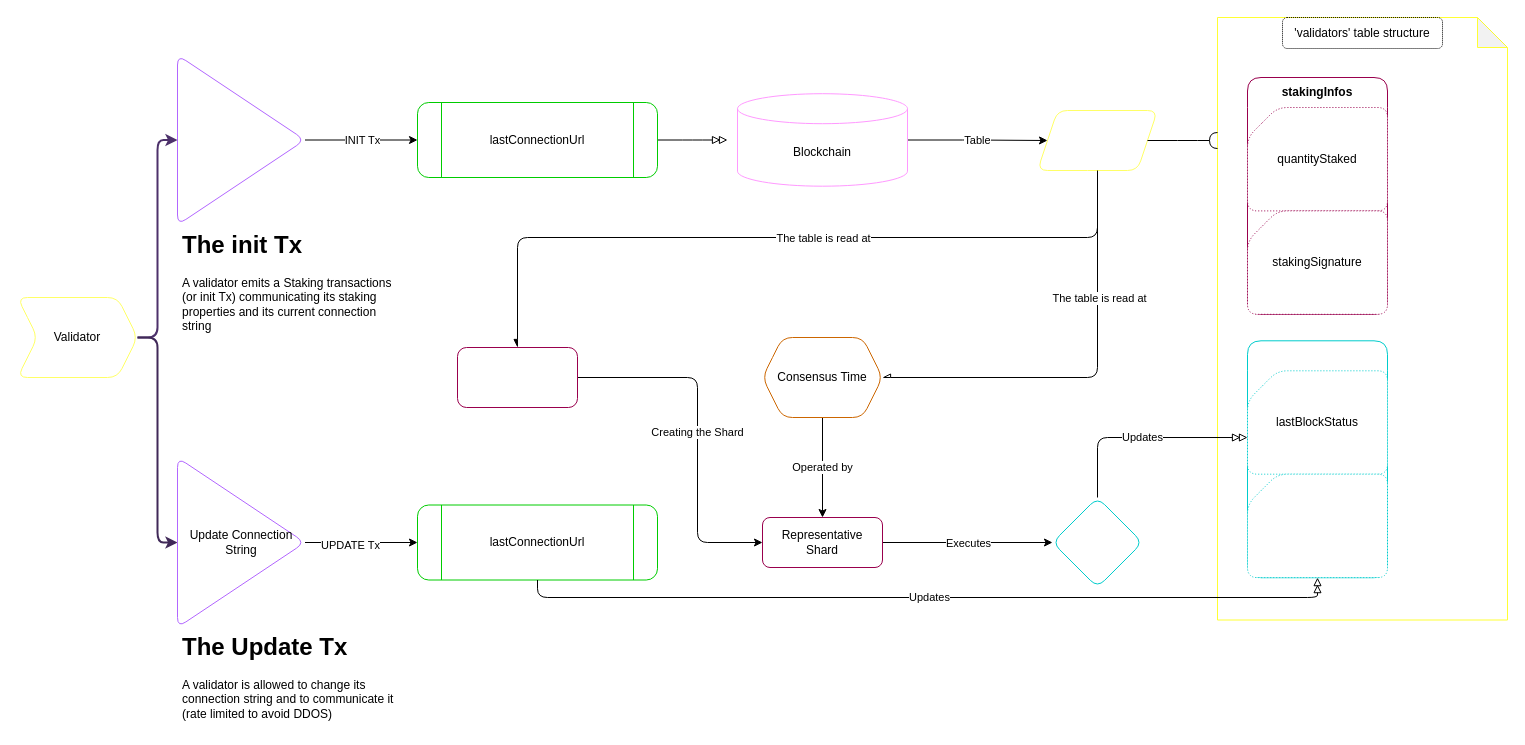
Image size: 1525x745. Some labels were removed from this diagram. The shapes that lost their labels are listed below. From the top down, each one's box as (x1, y1, x2, y2) in pixels, then its label:
(176, 54, 305, 225): Staking Transaction
(1036, 110, 1158, 170): validators
(456, 346, 578, 408): PoR Shard Selection
(1246, 340, 1388, 578): connectionInfos
(1052, 496, 1142, 588): Verify Status
(1246, 473, 1388, 578): lastConnectionString
